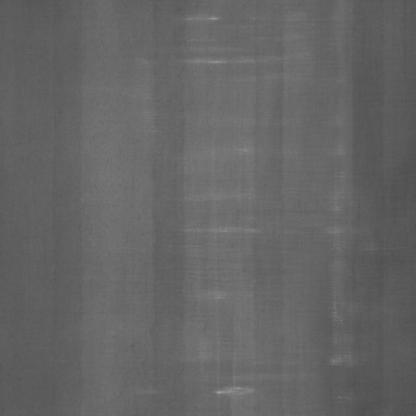waist_folding: (167, 6, 375, 408)
